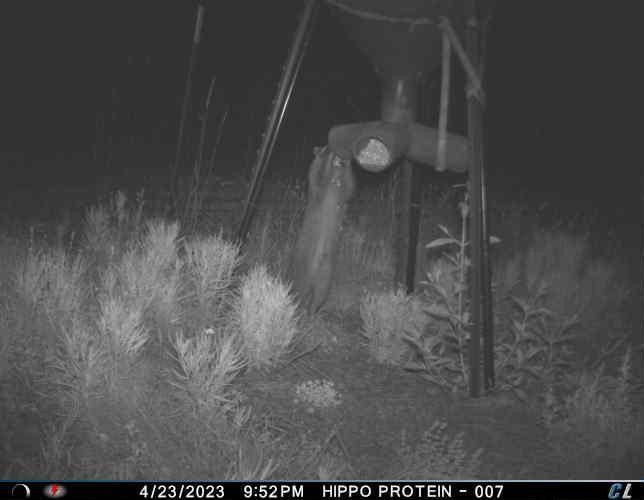Raccoon: (284, 140, 359, 317)
